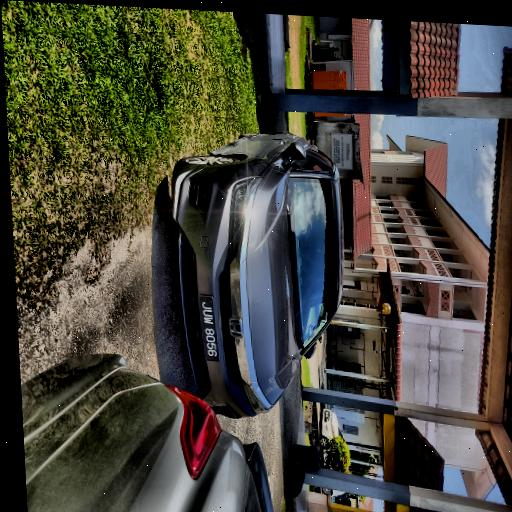license_plate: (195, 295, 219, 362)
